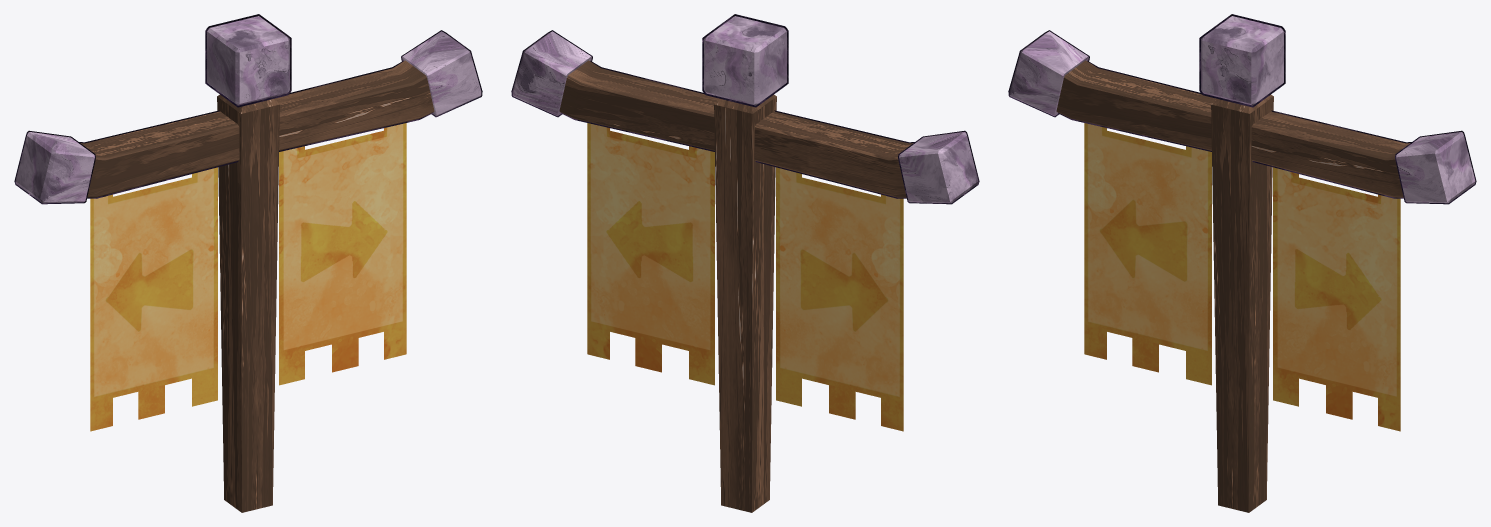
The model's file is Signal_01_Art.glb.
3 renders of one model, left to right at view 1: azimuth 30°, elevation 25°; view 2: azimuth 150°, elevation 25°; view 3: azimuth 330°, elevation 25°, orthographic.
Visible parts, largest first — view 1: Signal_01_Art; view 2: Signal_01_Art; view 3: Signal_01_Art.
Boxes of the visible parts, left/top/right/bottom form: Signal_01_Art: left=14, top=14, right=482, bottom=512; Signal_01_Art: left=511, top=14, right=979, bottom=512; Signal_01_Art: left=1008, top=14, right=1476, bottom=512.
Size of what is drawn, in the model's own units: 2.63 by 2.68 by 0.3415.
4 materials, 4 textured.
